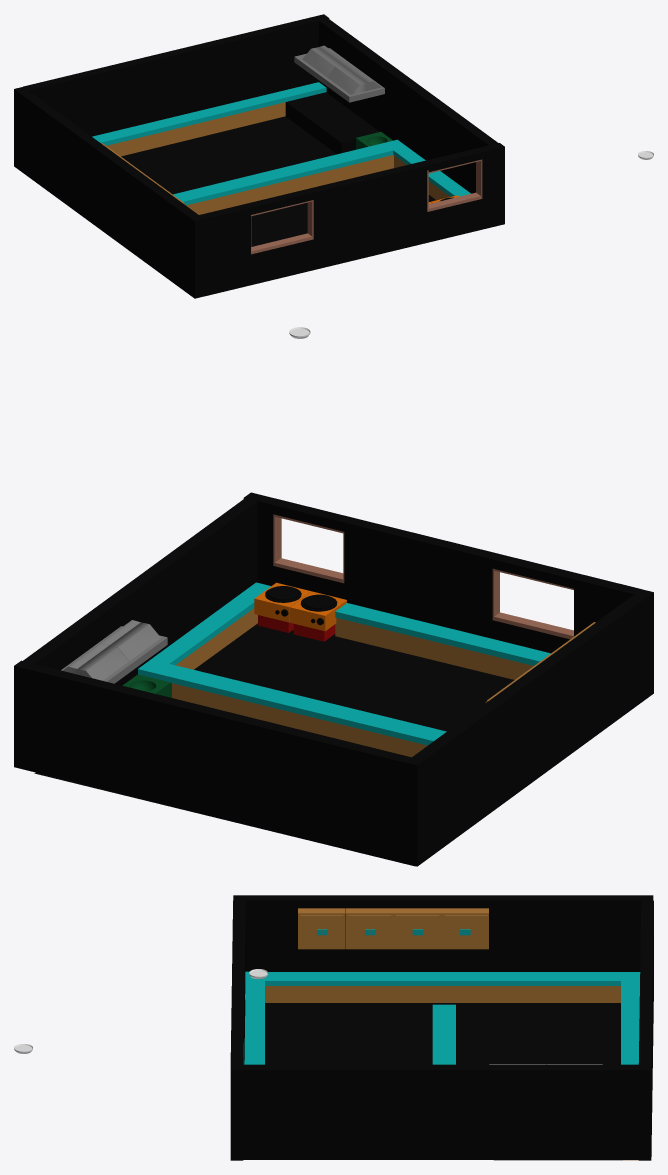
File: Cocina mejor siempre.fbx
3 views of the same model, one above another, from view 1: azimuth 30°, elevation 25°; view 2: azimuth 150°, elevation 25°; view 3: azimuth 270°, elevation 25° (orthographic). The views are drawn at different scales.
Visible parts, largest first — view 1: polySurface315; view 2: polySurface315; view 3: polySurface315.
Part boxes in pixels (x1,y1,x2,y2): polySurface315: (14, 14, 653, 298); polySurface315: (14, 327, 653, 866); polySurface315: (14, 895, 653, 1160).
Bounding box in the file's own units: 25.26 × 8.3 × 32.76.
